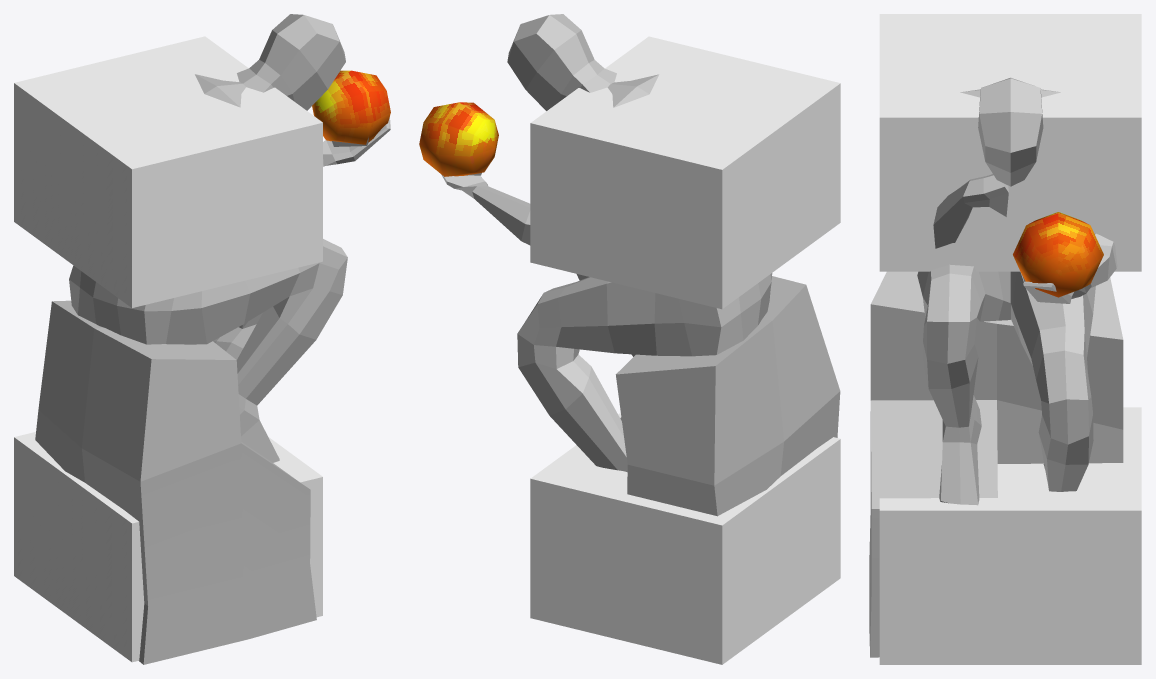
The model's file is Statue.fbx.
The picture shows the model from 3 angles, left to right: view 1: azimuth 30°, elevation 25°; view 2: azimuth 150°, elevation 25°; view 3: azimuth 270°, elevation 25°; orthographic projection. The views are drawn at different scales.
Visible parts, largest first — view 1: Statue, Cube, Cube (1), Sphere_8; view 2: Statue, Cube, Cube (1), Sphere_8; view 3: Statue, Cube, Cube (1), Sphere_8.
Boxes of the visible parts, bbox=[...] form: Statue: bbox=[35, 14, 390, 664]; Cube: bbox=[14, 36, 322, 307]; Cube (1): bbox=[14, 432, 322, 662]; Sphere_8: bbox=[312, 70, 390, 144]; Statue: bbox=[441, 14, 840, 516]; Cube: bbox=[530, 36, 840, 309]; Cube (1): bbox=[530, 412, 840, 664]; Sphere_8: bbox=[419, 102, 498, 176]; Statue: bbox=[869, 77, 1123, 657]; Cube: bbox=[879, 14, 1141, 271]; Cube (1): bbox=[879, 407, 1141, 664]; Sphere_8: bbox=[1013, 212, 1103, 297].
Bounding box in the file's own units: 5.05 × 7.9 × 3.2.
